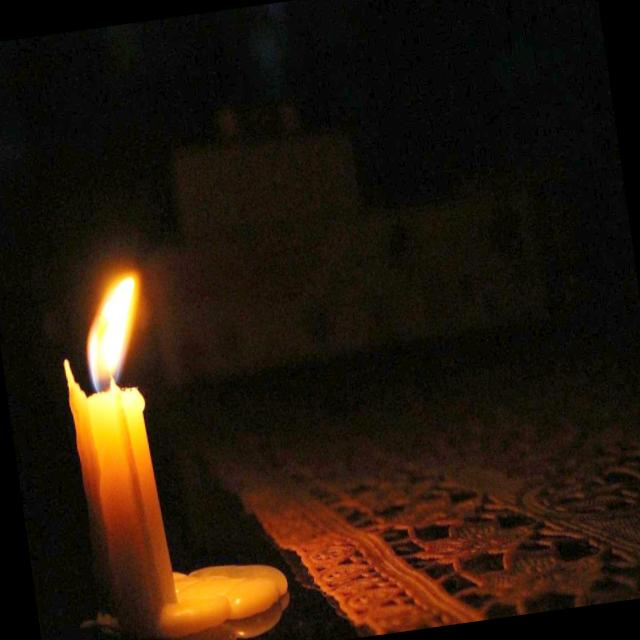Fire_Save: (43, 253, 297, 640)
